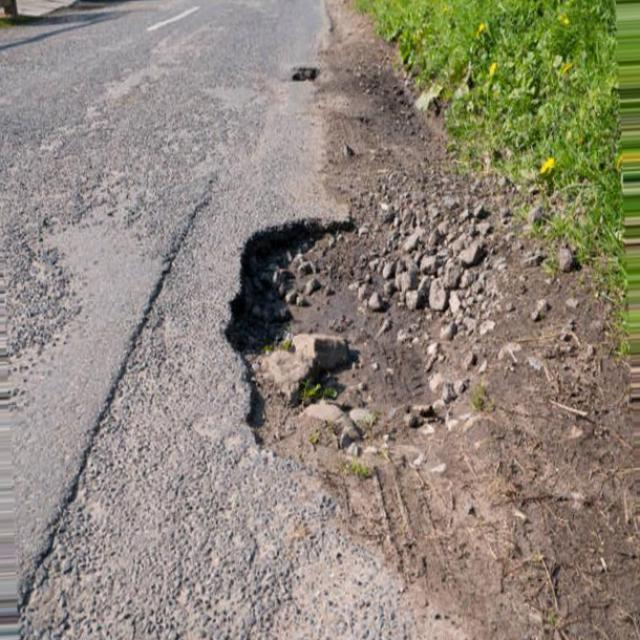Pinggir: (209, 205, 454, 559)
